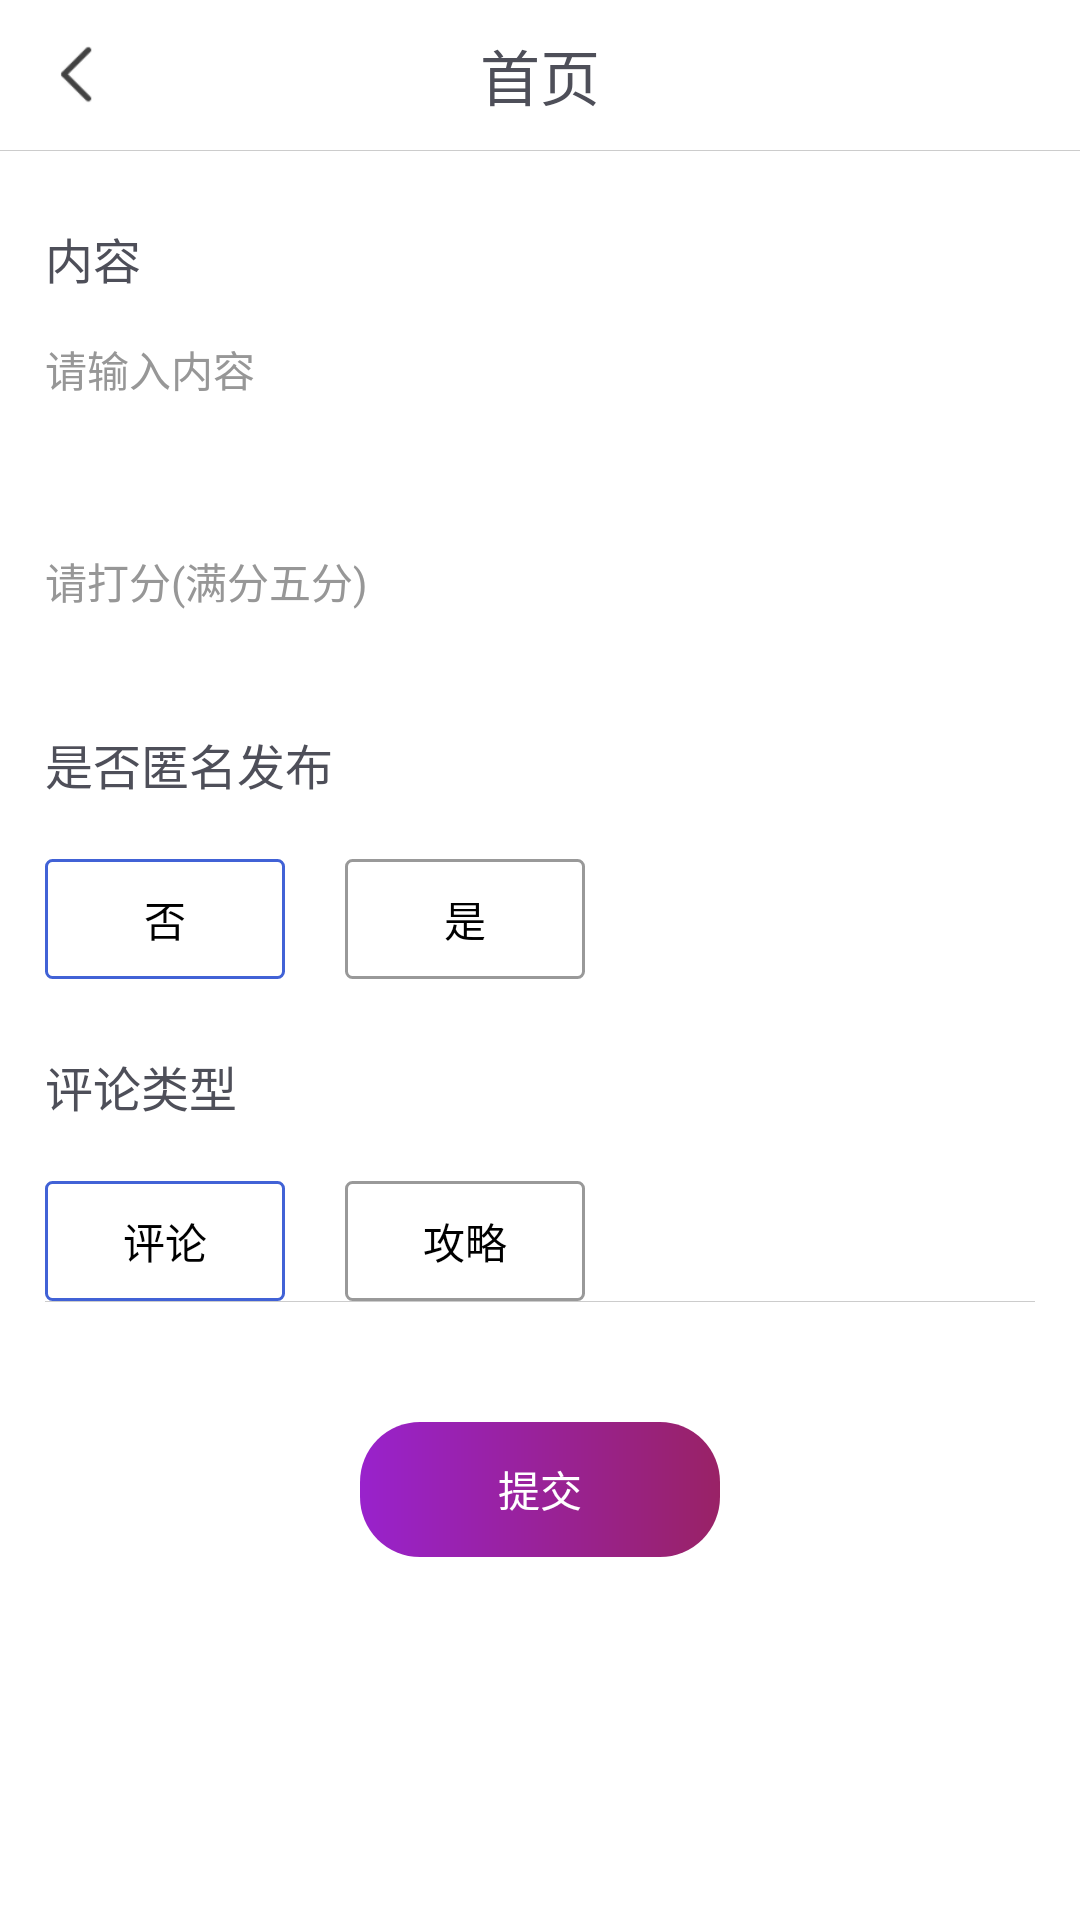

Icon bounding boxes for this 1080*1920 phone screenshot, format (x1, y1, x2, y2):
return: (61, 47, 92, 102)
